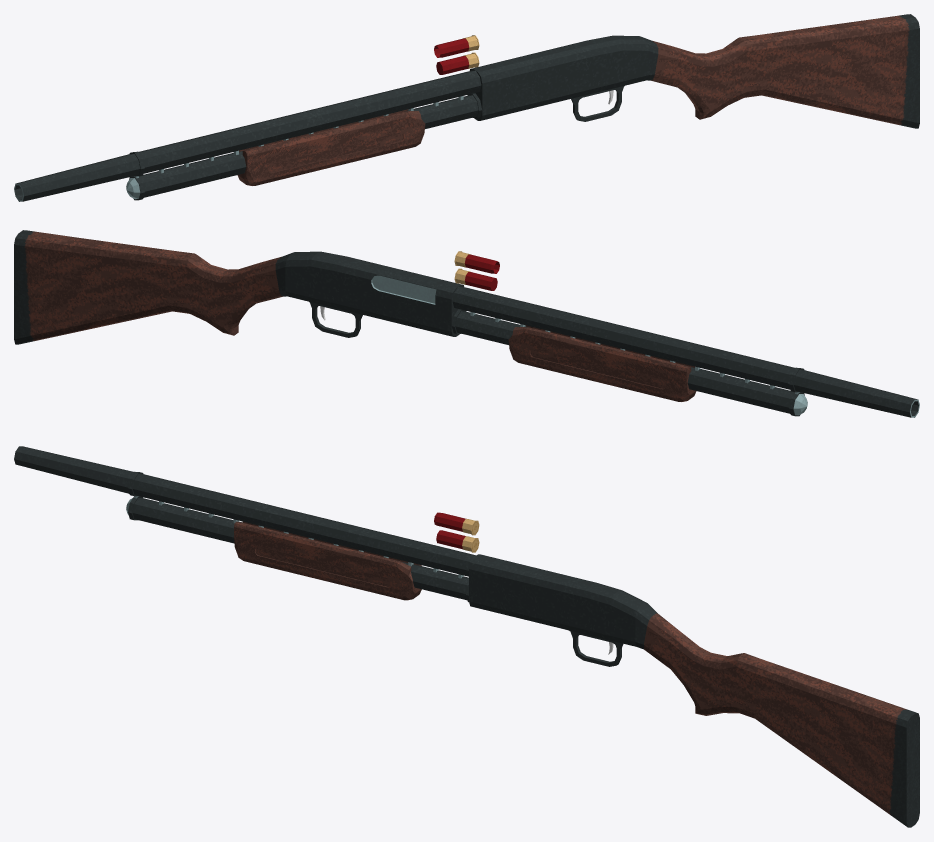
Rendered from Shotgun.fbx.
3 renders of one model, top to bottom at view 1: azimuth 30°, elevation 25°; view 2: azimuth 150°, elevation 25°; view 3: azimuth 330°, elevation 25°, orthographic.
Parts seen in each view (by area): view 1: Shotgun, Pump, Shotgun.Shell.Empty, Shotgun.Shell; view 2: Shotgun, Pump, Shotgun.Shell.Empty, Shotgun.Shell; view 3: Shotgun, Pump.
Boxes of the visible parts, x1=… form: Shotgun: x1=14, y1=14, x2=919, y2=201; Pump: x1=237, y1=109, x2=425, y2=185; Shotgun.Shell.Empty: x1=434, y1=35, x2=479, y2=57; Shotgun.Shell: x1=436, y1=52, x2=479, y2=74; Shotgun: x1=14, y1=230, x2=919, y2=417; Pump: x1=508, y1=325, x2=696, y2=401; Shotgun.Shell.Empty: x1=454, y1=251, x2=499, y2=273; Shotgun.Shell: x1=454, y1=268, x2=497, y2=290; Shotgun: x1=14, y1=446, x2=919, y2=827; Pump: x1=234, y1=521, x2=421, y2=600.
Bounding box in the file's own units: 107 × 22.81 × 2.77.
Materials: 3 (3 with a texture image).
